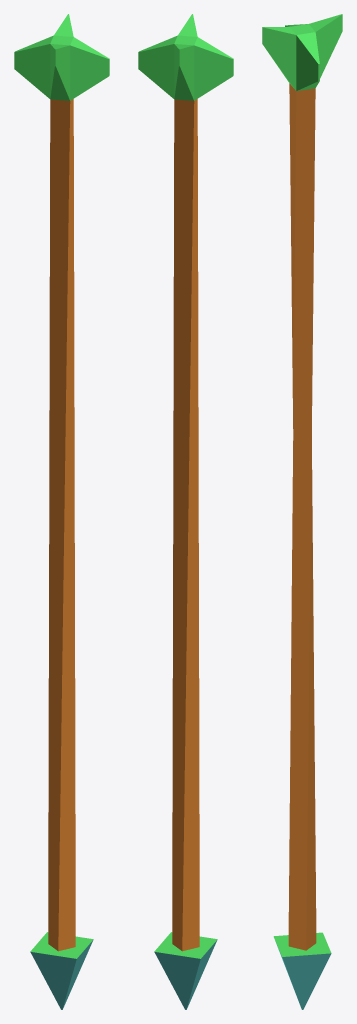
File: Arrow.fbx
3 renders of one model, left to right at view 1: azimuth 30°, elevation 25°; view 2: azimuth 210°, elevation 25°; view 3: azimuth 330°, elevation 25°, orthographic.
Parts seen in each view (by area): view 1: Arrow; view 2: Arrow; view 3: Arrow.
Boxes of the visible parts, x1=… form: Arrow: x1=14, y1=14, x2=109, y2=1009; Arrow: x1=138, y1=14, x2=233, y2=1009; Arrow: x1=262, y1=14, x2=342, y2=1009.
Size of the model in its own units: 46.84 by 676 by 43.78.
